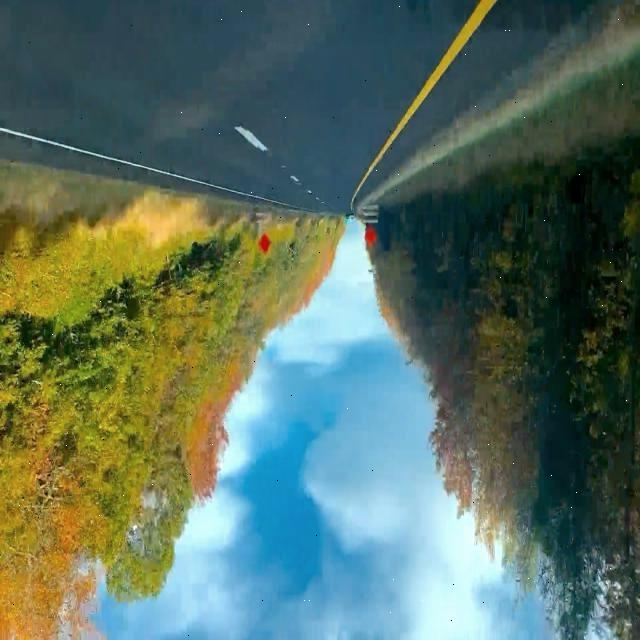lane: (352, 1, 498, 206), (0, 127, 299, 208), (237, 127, 267, 150)
road: (1, 1, 477, 213), (363, 1, 617, 199)
